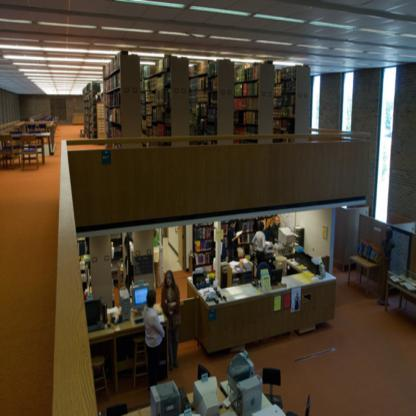book: (140, 52, 170, 148), (190, 59, 218, 144), (236, 66, 258, 144), (103, 52, 120, 150), (275, 68, 296, 142), (222, 218, 256, 258), (193, 222, 216, 266), (83, 82, 94, 142)
